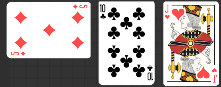10C: (146, 64, 154, 82)
9D: (72, 4, 89, 10), (10, 51, 27, 57)
